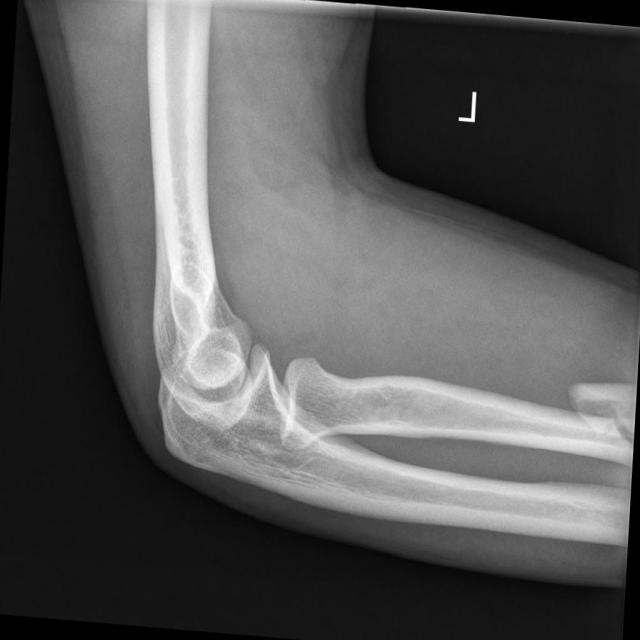Spiral: (564, 364, 635, 464)
